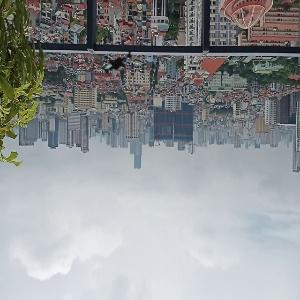drone: (91, 34, 145, 88)
